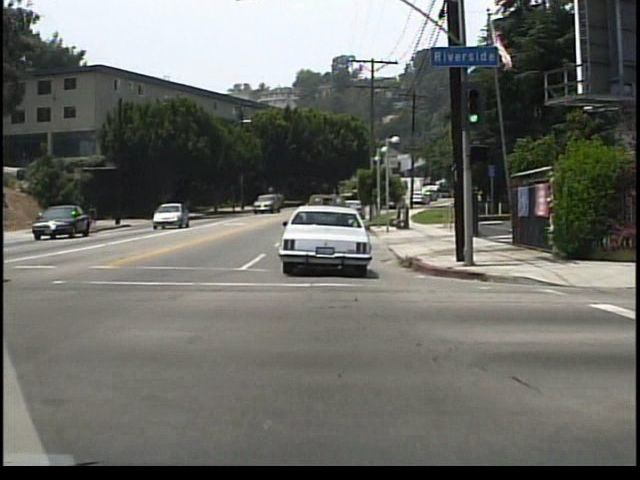person: (89, 204, 100, 229)
